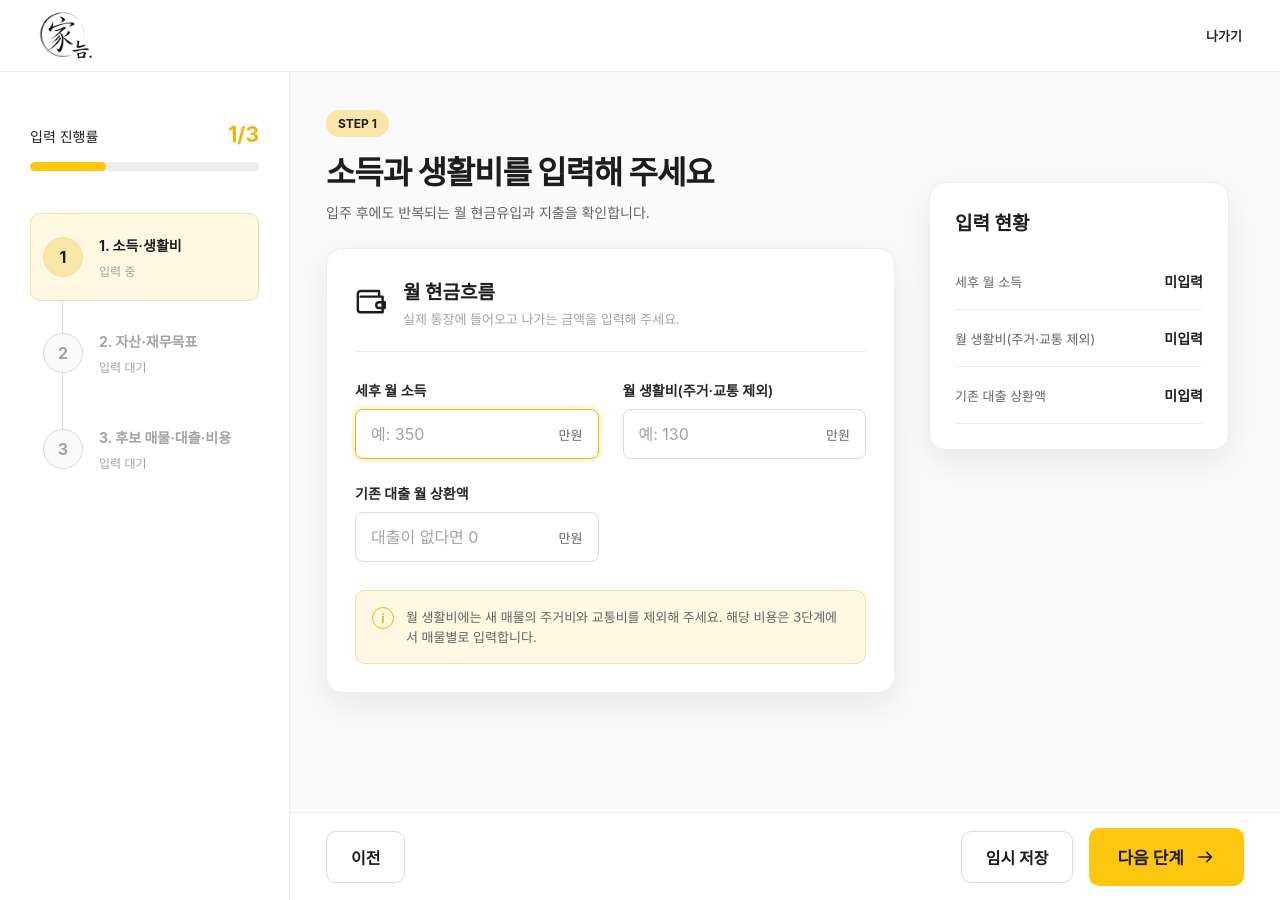
Test: CashFlowPage › 작성한 필드만 서버에 임시 저장하고 화면에 머문다
In the field labelled "세후 월 소득": (450, 434) [356,411,544,457], type "350"
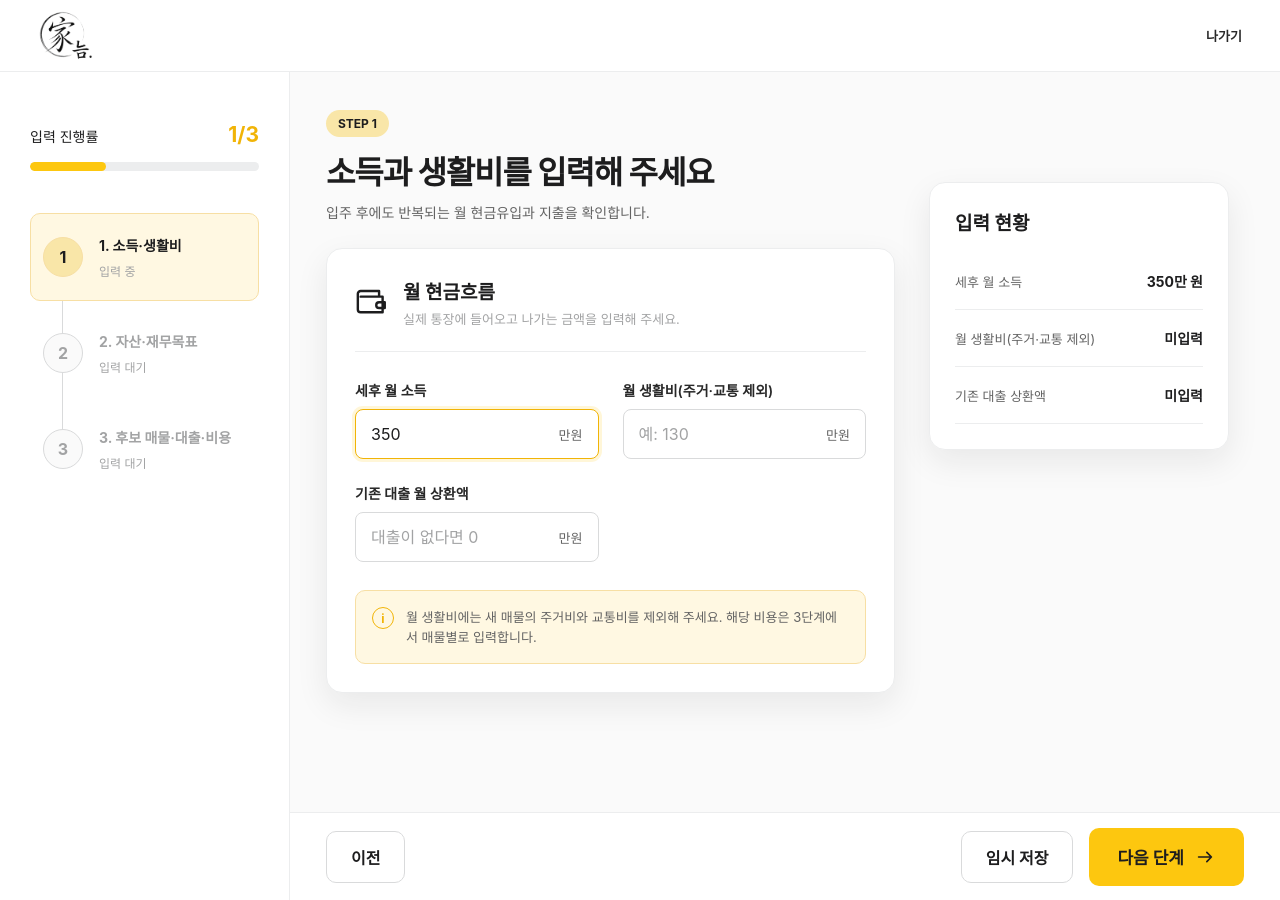
Click the button "임시 저장": (1017, 856) [961,830,1073,882]
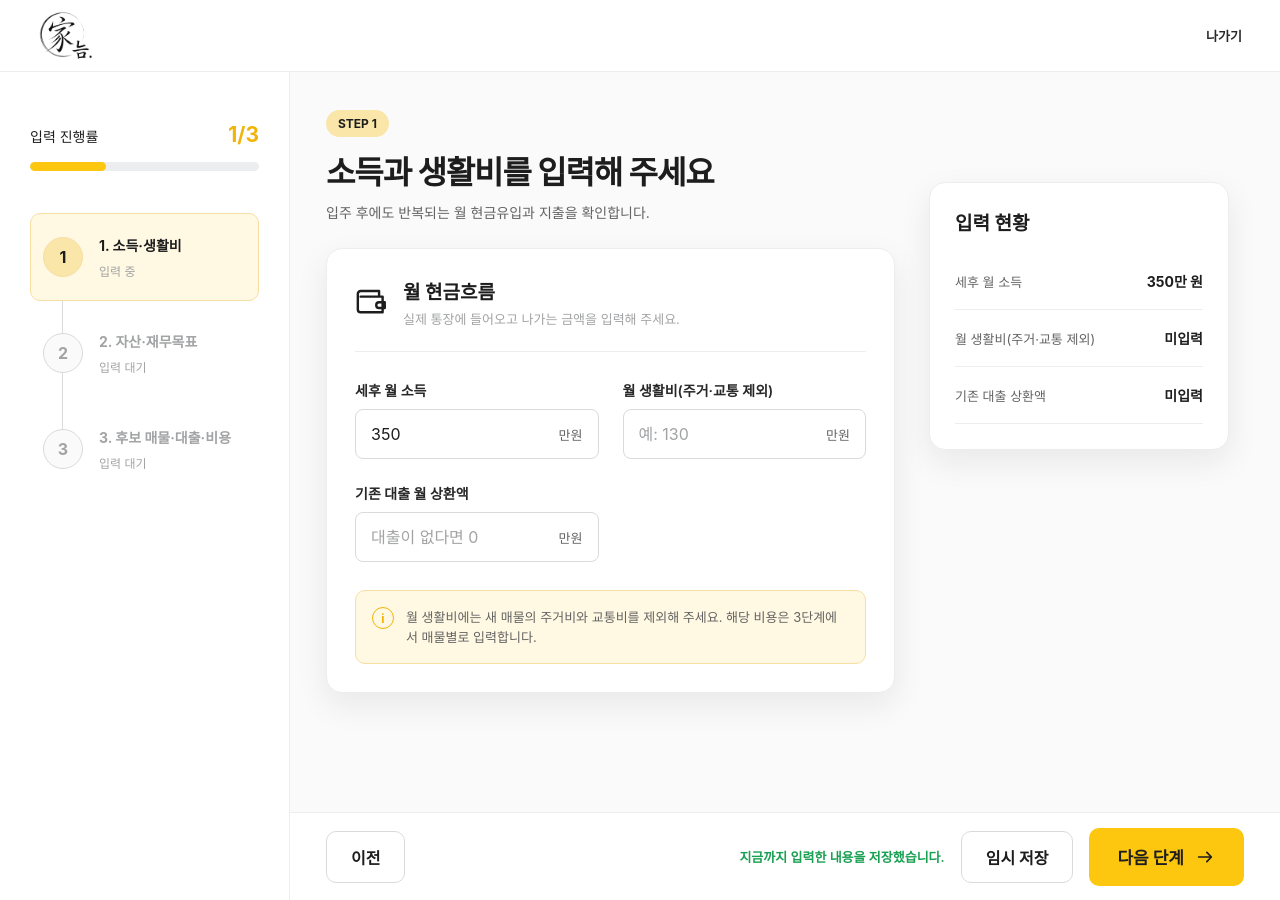
Check: the text "지금까지 입력한 내용을 저장했습니다." is shown, box [739,847,945,866]
